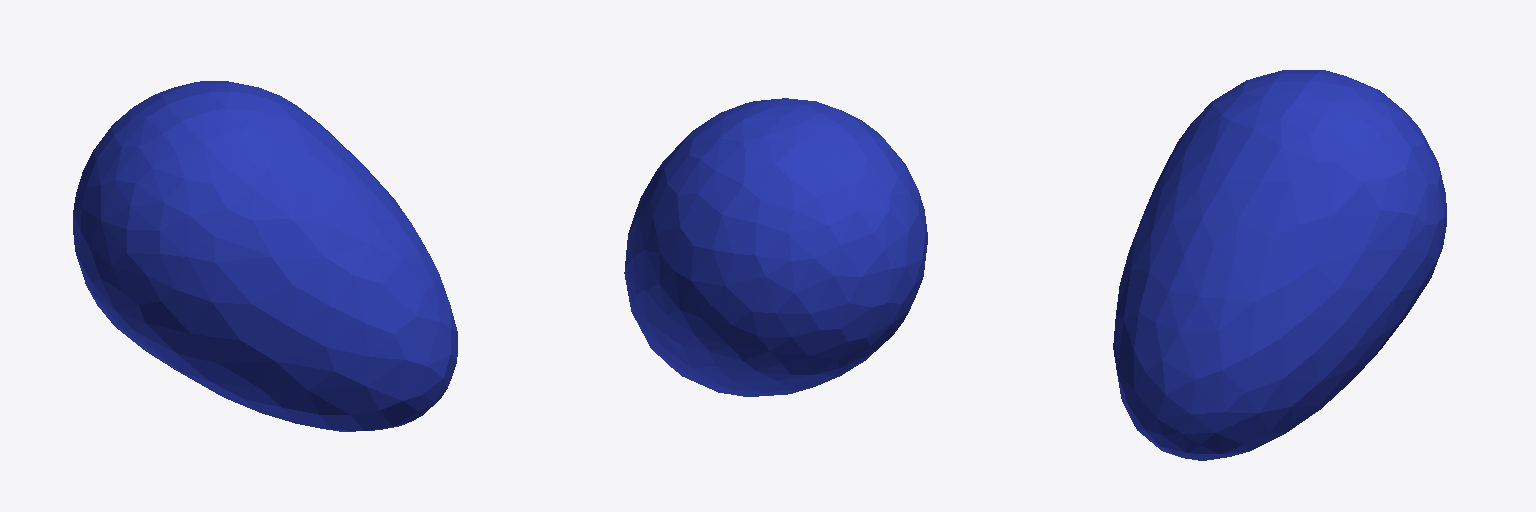
File: egg2.obj
3 views of the same model, side by side, from view 1: azimuth 30°, elevation 25°; view 2: azimuth 150°, elevation 25°; view 3: azimuth 270°, elevation 25° (orthographic).
Visible parts, largest first — view 1: obj1; view 2: obj1; view 3: obj1.
Part boxes in pixels (x1,y1,x2,y2): obj1: (73,81,457,431); obj1: (624,98,927,396); obj1: (1113,70,1446,460).
Size of the model in its own units: 103 by 103 by 97.63.